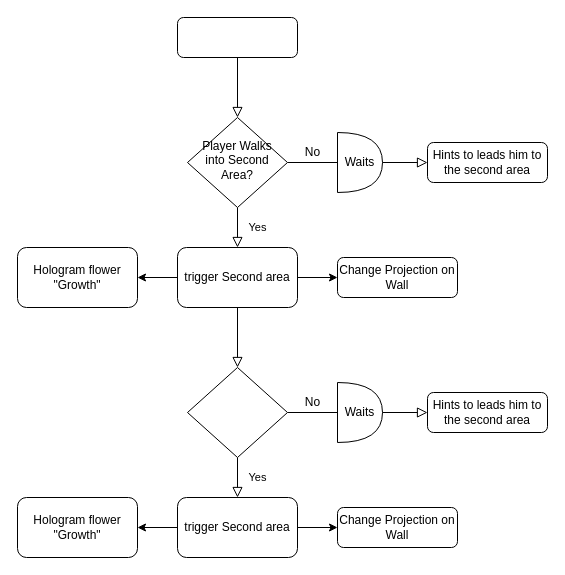
The diagram is 565 pixels wide and 575 high, and some of its shapes have lost their labels. Here are the shapes that lost their labels. From the top down, the centre of each, then its label:
At (x=237, y=37): "Player Walks In".
At (x=237, y=412): "Player Solves the".
